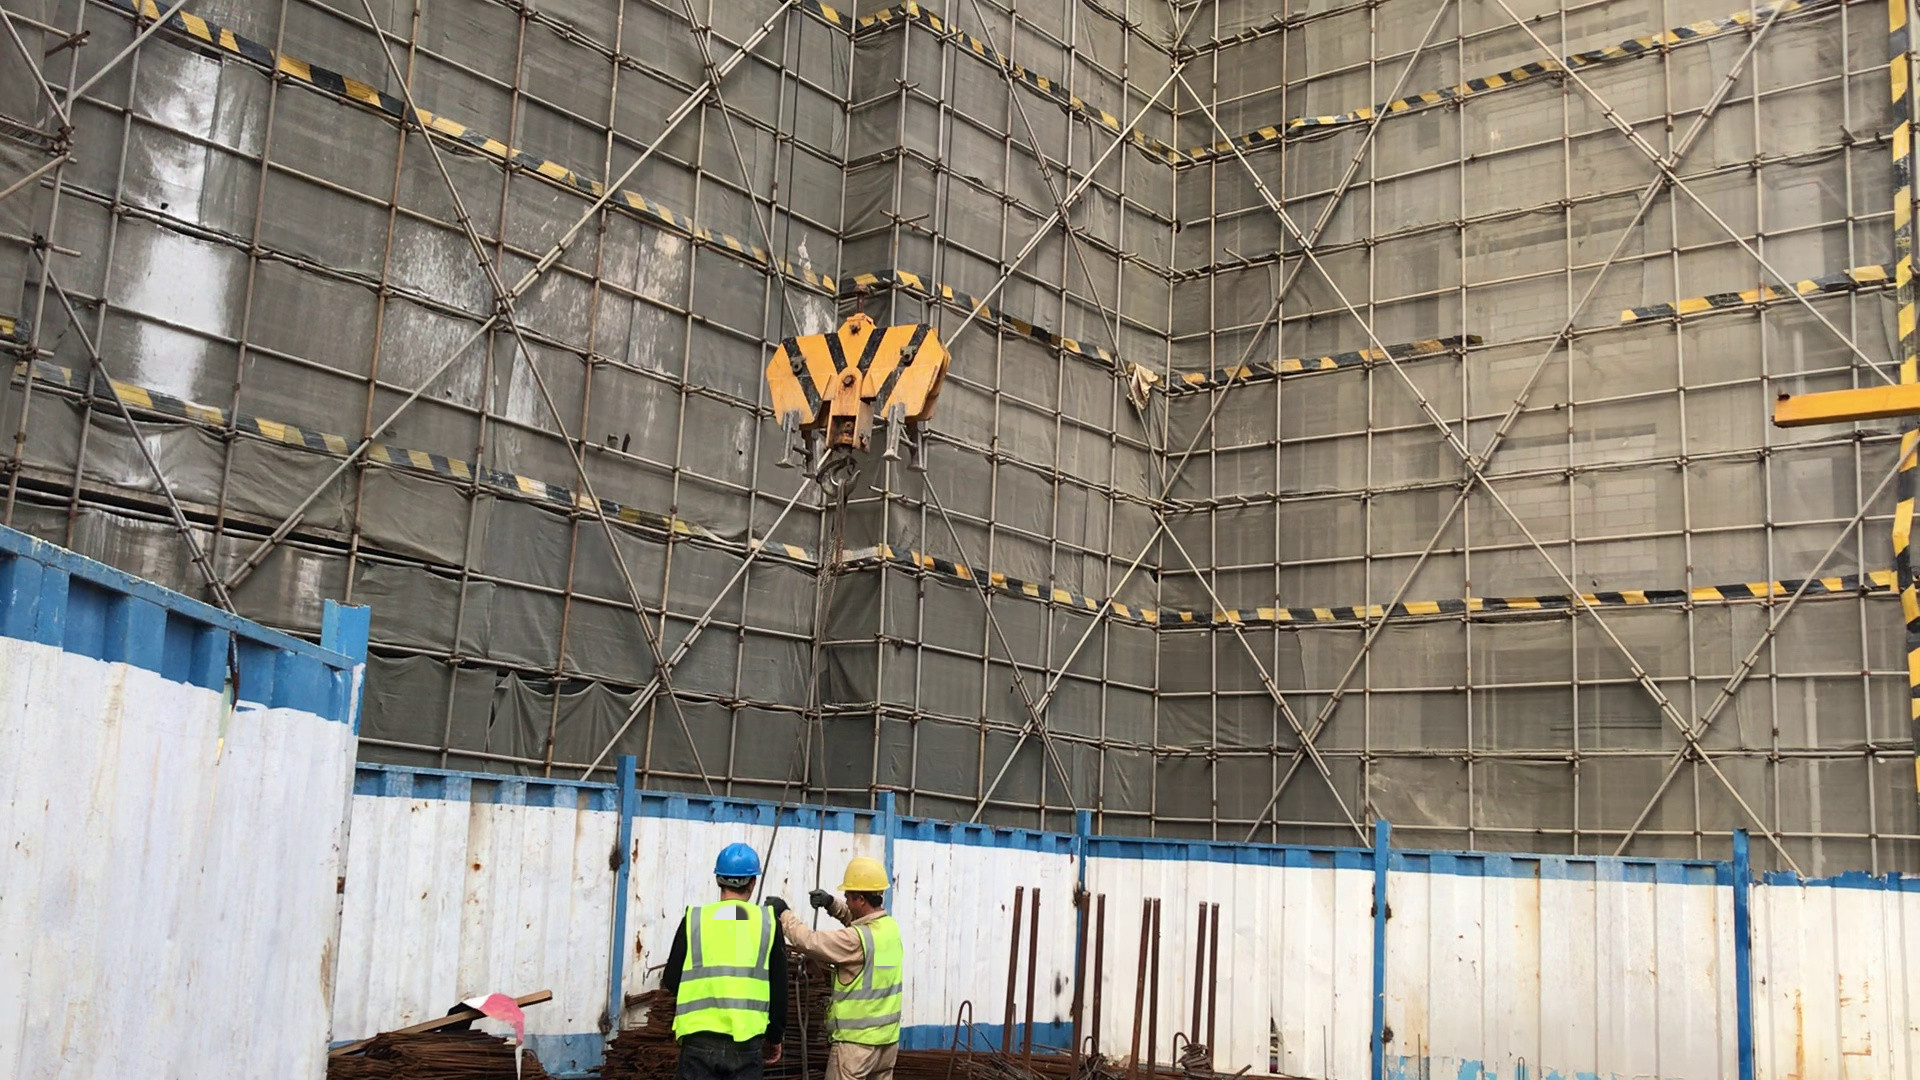helmet: (709, 840, 778, 894), (844, 856, 895, 909)
hook: (766, 282, 954, 472)
person: (805, 848, 918, 1080), (673, 838, 781, 1080)
vest: (672, 895, 782, 1040), (824, 913, 918, 1060)
